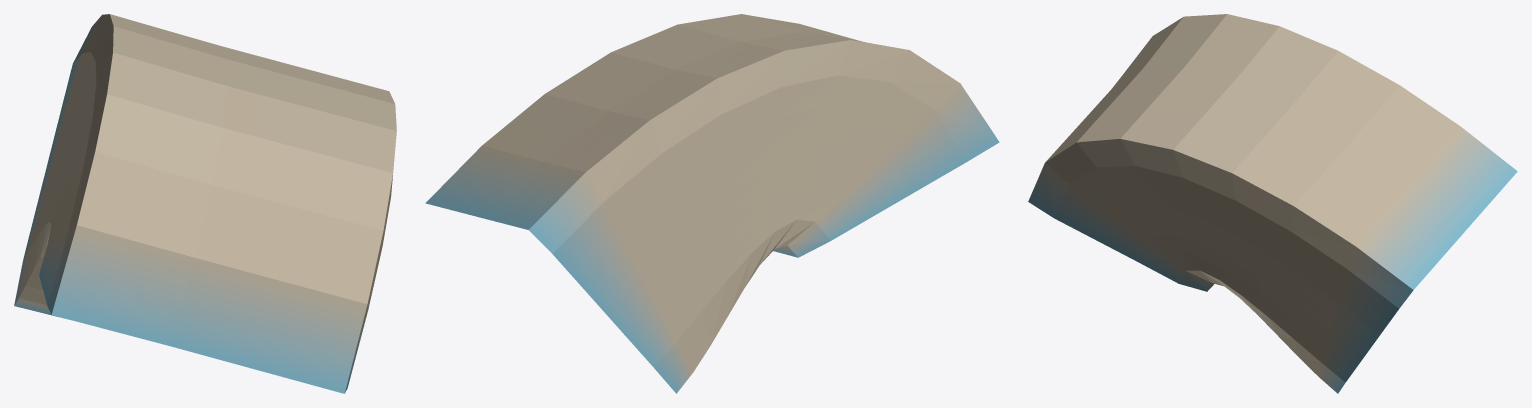
File: combat-elbow-13-1.glb
3 views of the same model, side by side, from view 1: azimuth 30°, elevation 25°; view 2: azimuth 150°, elevation 25°; view 3: azimuth 270°, elevation 25° (orthographic). The views are drawn at different scales.
Parts seen in each view (by area): view 1: world; view 2: world; view 3: world.
Boxes of the visible parts, <box> form: world: <box>14,14,396,393</box>; world: <box>425,14,999,393</box>; world: <box>1028,14,1517,393</box>.
Bounding box in the file's own units: 122 × 93.11 × 143.
